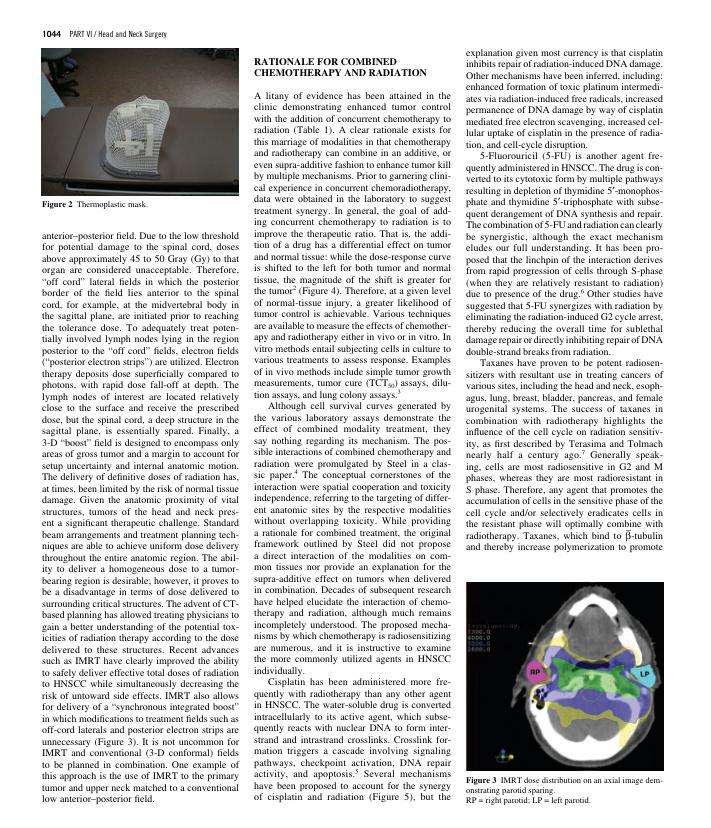caption: (465, 775, 664, 806), (41, 200, 149, 210)
header: (69, 30, 168, 40)
image: (465, 581, 664, 771), (41, 47, 239, 196)
section-heading: (253, 56, 429, 79)
text: (253, 90, 452, 804), (40, 231, 241, 807), (465, 48, 664, 554)
